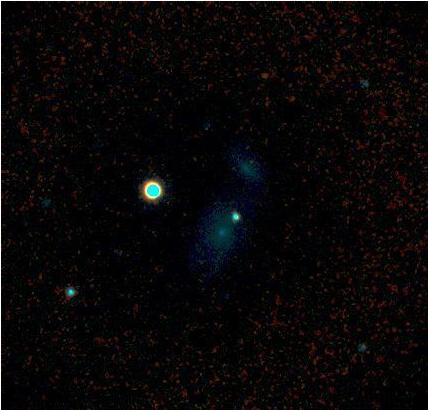star: (247, 61, 277, 91)
